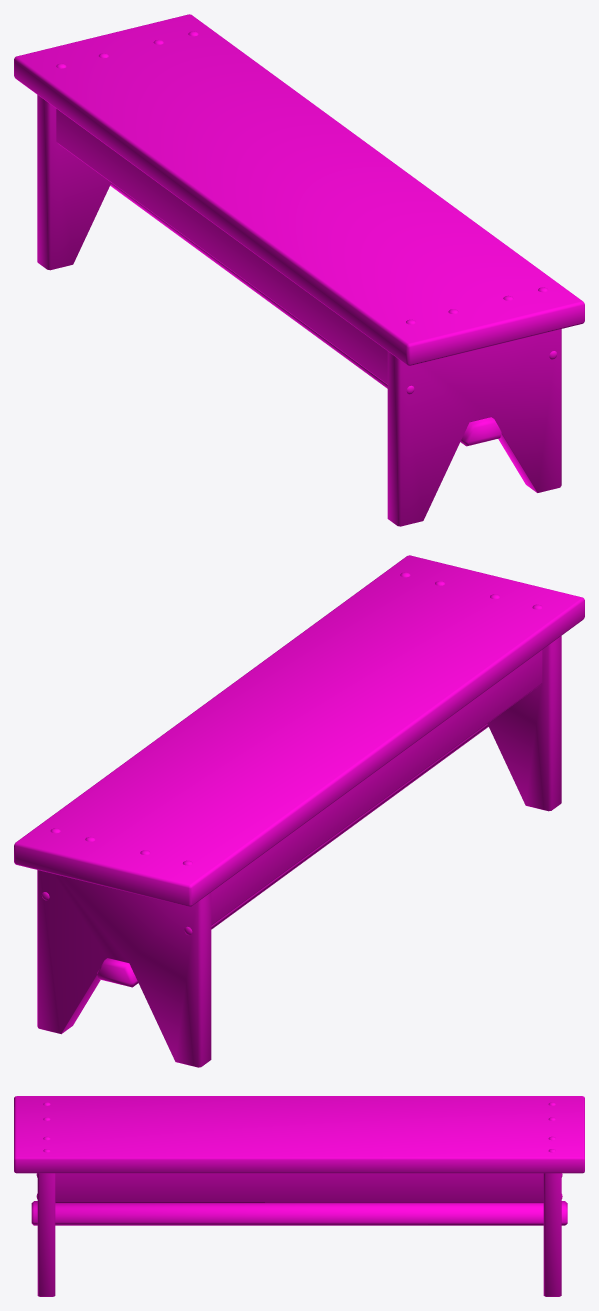
Rendered from Long_Chair.FBX.
The picture shows the model from 3 angles, top to bottom: view 1: azimuth 30°, elevation 25°; view 2: azimuth 150°, elevation 25°; view 3: azimuth 270°, elevation 25°; orthographic projection. The views are drawn at different scales.
Parts seen in each view (by area): view 1: Long_chair; view 2: Long_chair; view 3: Long_chair.
Part boxes in pixels (box(x1,y1,x2,y2)): Long_chair: box(14, 14, 584, 526); Long_chair: box(14, 555, 584, 1067); Long_chair: box(14, 1096, 584, 1296).
Bounding box in the file's own units: 45.06 × 47.85 × 173.
